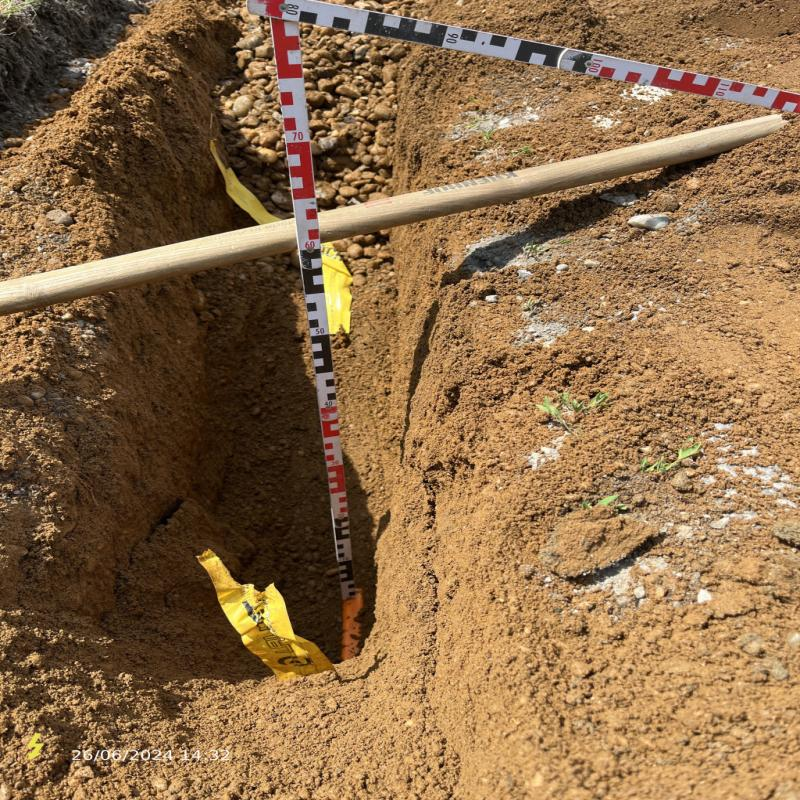Orang-Speednetrohrchen: (343, 588, 363, 660)
